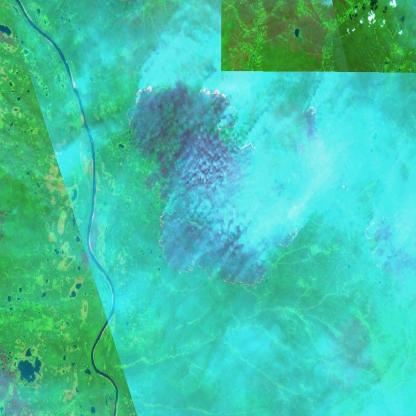fire: (113, 74, 300, 286)
